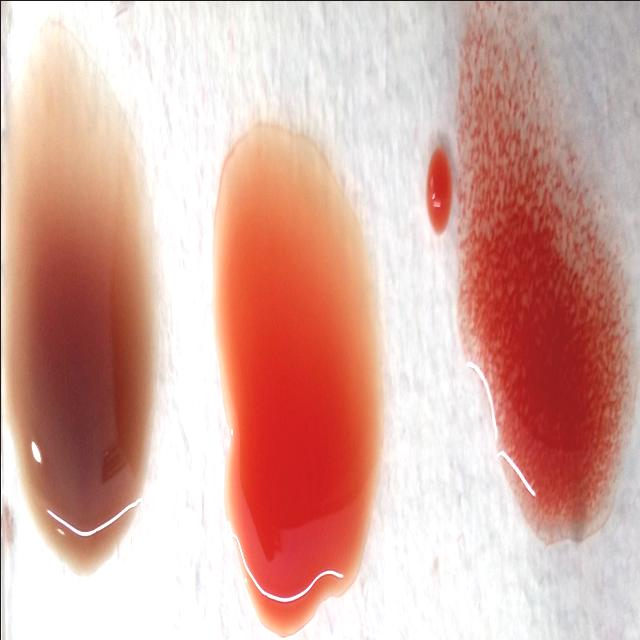D: (459, 19, 626, 536)
